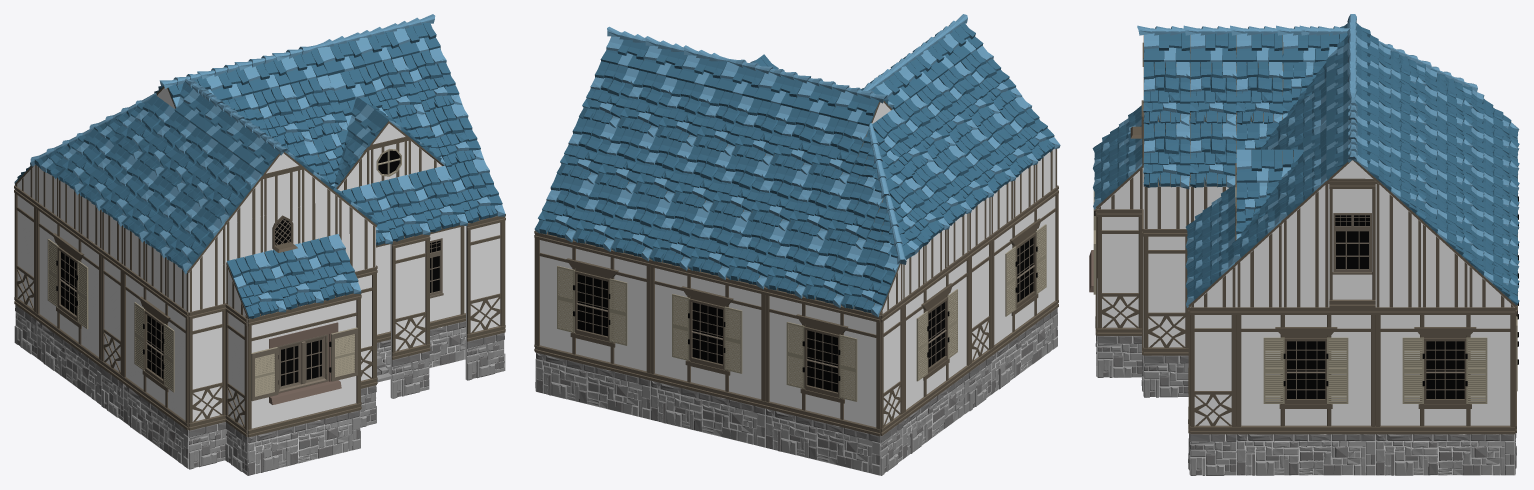
Rendered from house_20_full.glb.
The picture shows the model from 3 angles, left to right: view 1: azimuth 30°, elevation 25°; view 2: azimuth 150°, elevation 25°; view 3: azimuth 270°, elevation 25°; orthographic projection. The views are drawn at different scales.
Visible parts, largest first — view 1: WINDOW_06_2, WINDOW_07_3, WINDOW_07_4, WINDOW_03_2, WALL_04_7, WALL_04_8, WALL_04_10, FOUNDATION_02_26, WALL_04_11, WALL_04_13, WALL_04_12, ROOF_base_29 (+71 smaller); view 2: WINDOW_07_5, WINDOW_07_6, WINDOW_07_10, WINDOW_07_4, WINDOW_07_3, FOUNDATION_02_32, FOUNDATION_02_31, FOUNDATION_02_30, WALL_04_13, WALL_04_12, FOUNDATION_02_33, FOUNDATION_02_34 (+57 smaller); view 3: WINDOW_07_8, WINDOW_07_9, WALL_04_9, WINDOW_04_4, FOUNDATION_02_29, FOUNDATION_02_28, WALL_04_3, WALL_04_5, ROOF_base_30, ROOF_base_32, ROOF_base_31, ROOF_base_33 (+80 smaller).
Part boxes in pixels (x1,y1,x2,y2): WINDOW_06_2: (248, 293, 361, 437); WINDOW_07_3: (122, 265, 188, 430); WINDOW_07_4: (35, 201, 101, 366); WINDOW_03_2: (376, 225, 465, 342); WALL_04_7: (391, 234, 430, 359); WALL_04_8: (466, 216, 505, 341); WALL_04_10: (188, 303, 226, 430); FOUNDATION_02_26: (248, 410, 360, 475); WALL_04_11: (225, 303, 247, 436); WALL_04_13: (14, 186, 36, 318); WALL_04_12: (100, 249, 123, 382); ROOF_base_29: (226, 252, 286, 318); WINDOW_07_5: (764, 287, 880, 436); WINDOW_07_6: (650, 259, 765, 408); WINDOW_07_10: (535, 231, 650, 380); WINDOW_07_4: (903, 251, 970, 419); WINDOW_07_3: (991, 186, 1058, 354); FOUNDATION_02_32: (765, 408, 880, 475); FOUNDATION_02_31: (651, 380, 765, 447); FOUNDATION_02_30: (536, 352, 650, 419); WALL_04_13: (880, 299, 904, 435); WALL_04_12: (969, 234, 992, 370); FOUNDATION_02_33: (902, 373, 969, 459); FOUNDATION_02_34: (991, 308, 1057, 394); WINDOW_07_8: (1375, 307, 1514, 434); WINDOW_07_9: (1236, 307, 1375, 434); WALL_04_9: (1190, 307, 1236, 434); WINDOW_04_4: (1329, 181, 1375, 307); FOUNDATION_02_29: (1375, 434, 1514, 475); FOUNDATION_02_28: (1236, 434, 1375, 475); WALL_04_3: (1097, 209, 1143, 335); WALL_04_5: (1143, 229, 1188, 355); ROOF_base_30: (1143, 122, 1190, 189); ROOF_base_32: (1189, 122, 1236, 187); ROOF_base_31: (1143, 61, 1190, 125); ROOF_base_33: (1189, 60, 1236, 125).
Bounding box in the file's own units: 9.28 × 7.65 × 9.28.
Materials: 1 (1 with a texture image).
